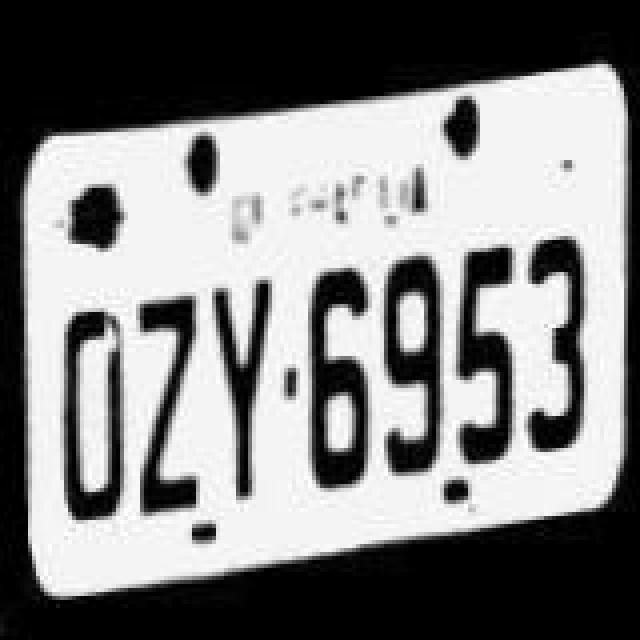3: (518, 224, 598, 480)
5: (446, 216, 526, 488)
6: (292, 256, 372, 516)
9: (368, 242, 444, 510)
O: (50, 278, 134, 546)
Y: (190, 258, 266, 510)
Z: (122, 264, 206, 532)
